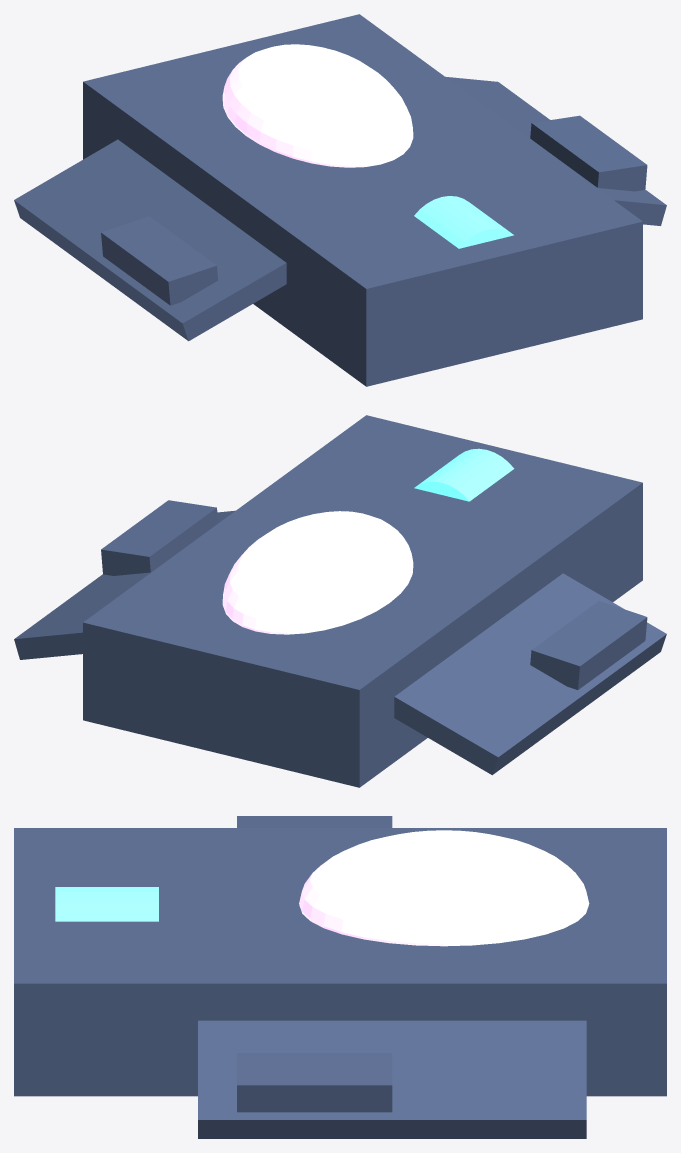
The model's file is astra_t3.glb.
3 renders of one model, top to bottom at view 1: azimuth 30°, elevation 25°; view 2: azimuth 150°, elevation 25°; view 3: azimuth 270°, elevation 25°, orthographic. The views are drawn at different scales.
Parts seen in each view (by area): view 1: Cube, Cube.002, Sphere, Cube.005, Cube.004, Cube.001, Cylinder.002; view 2: Cube, Cube.002, Sphere, Cube.005, Cube.004, Cube.001, Cylinder.002; view 3: Cube, Cube.001, Sphere, Cube.004, Cylinder.002, Cube.005.
Part boxes in pixels (<box>): Cube: <box>83,14,642,386</box>; Cube.002: <box>14,139,286,341</box>; Sphere: <box>222,44,413,167</box>; Cube.005: <box>101,216,218,305</box>; Cube.004: <box>530,115,647,191</box>; Cube.001: <box>445,76,666,225</box>; Cylinder.002: <box>414,196,513,248</box>; Cube: <box>83,415,642,787</box>; Cube.002: <box>394,573,666,775</box>; Sphere: <box>222,511,413,634</box>; Cube.005: <box>530,601,647,689</box>; Cube.004: <box>101,500,218,575</box>; Cube.001: <box>14,510,235,659</box>; Cylinder.002: <box>414,448,514,501</box>; Cube: <box>14,828,666,1096</box>; Cube.001: <box>198,1020,586,1138</box>; Sphere: <box>299,830,589,946</box>; Cube.004: <box>237,1053,392,1112</box>; Cylinder.002: <box>55,887,158,921</box>; Cube.005: <box>237,816,392,827</box>.
Size of the model in its own units: 2.49 by 0.75 by 2.52.
